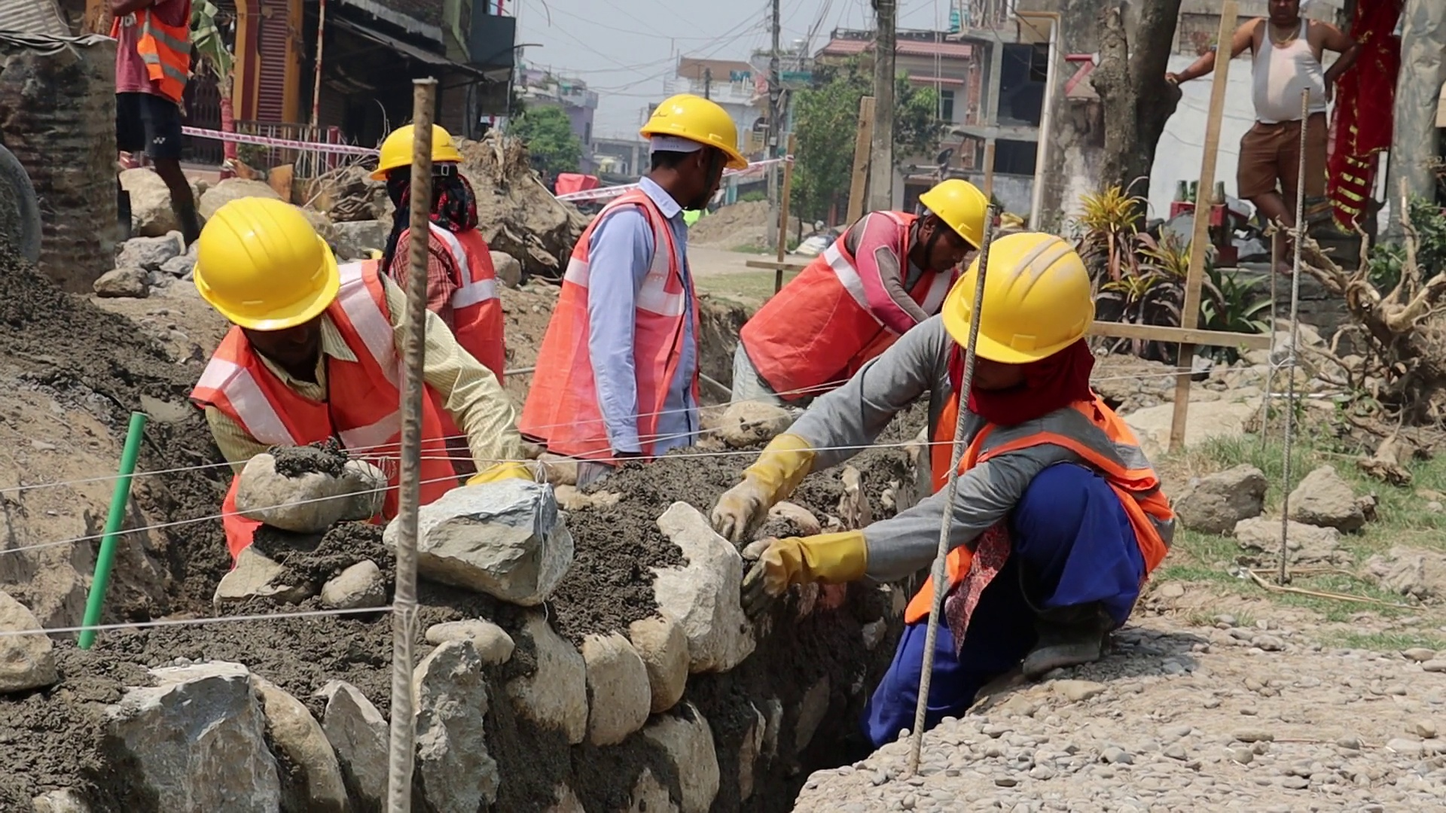helmet: (940, 232, 1097, 364), (191, 195, 340, 333), (639, 93, 749, 171), (372, 123, 465, 181), (918, 178, 989, 251)
person: (708, 230, 1178, 753), (186, 196, 534, 571), (518, 90, 749, 490), (731, 178, 990, 410), (1164, 0, 1362, 272), (371, 122, 506, 389), (108, 1, 205, 248)
